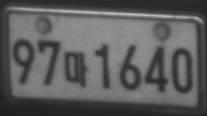0: (171, 47, 192, 93)
1: (93, 43, 114, 89)
4: (144, 46, 169, 92)
6: (119, 45, 141, 90)
7: (37, 39, 61, 85)
9: (12, 38, 35, 83)
마: (64, 51, 87, 88)
